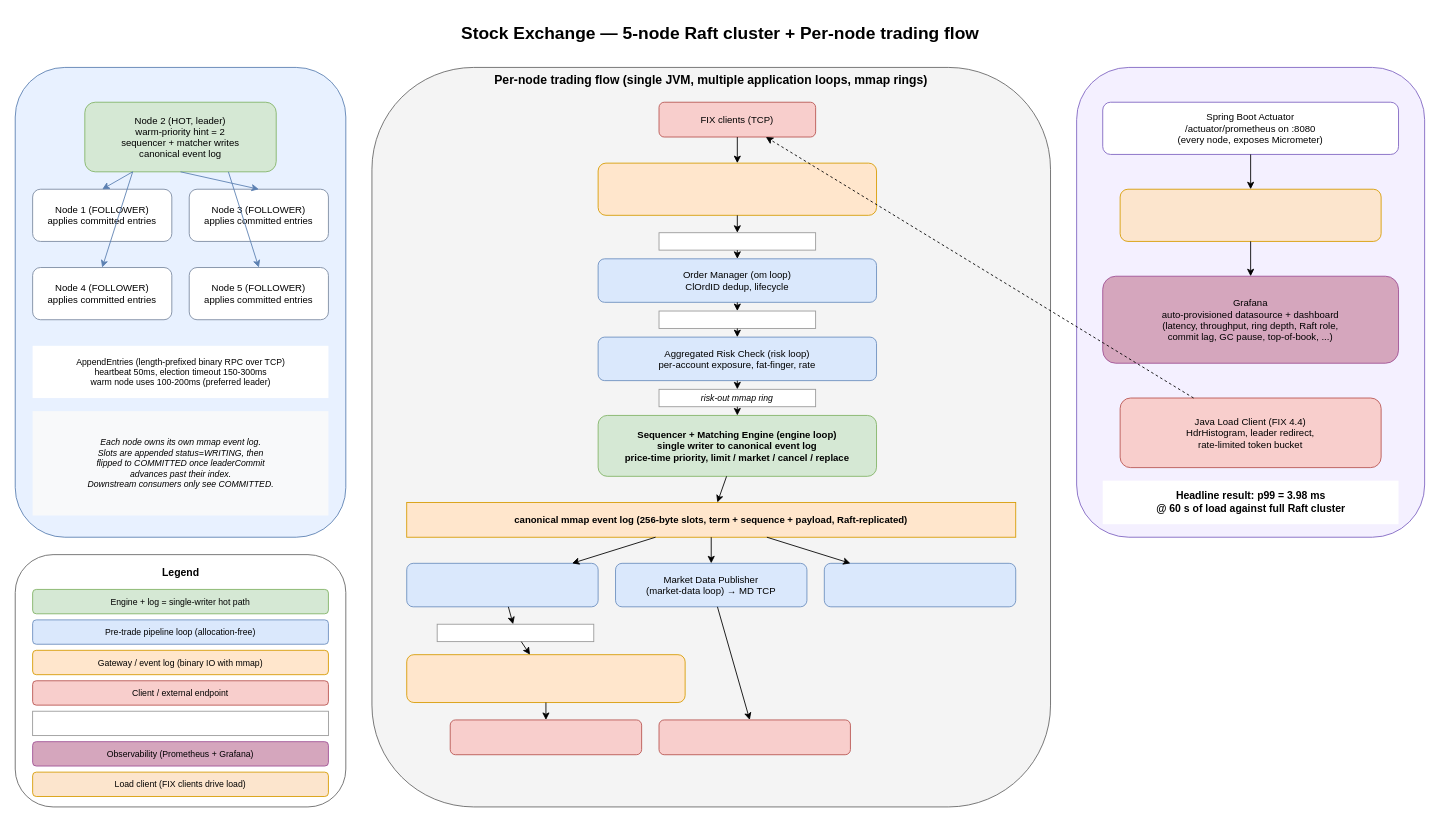
The diagram is 1440 pixels wide and 822 high, and some of its shapes have lost their labels. The box of each missing label's shape, as (x1, y1, x2, y2) in pixels:
5-node Raft cluster (HA): (14, 67, 346, 537)
Client Gateway (gateway-io loop) FIX 4.4 codec, session, rate limit, validation: (597, 162, 877, 215)
Client Gateway (gateway-out loop) encodes ExecutionReports → FIX → client: (406, 654, 685, 703)
FIX clients (TCP, ExecutionReport): (449, 719, 642, 755)
gateway-out mmap ring: (436, 623, 594, 642)
inbound mmap ring: (658, 232, 816, 250)
MD subscribers (TCP): (658, 719, 850, 755)
mmap ring buffer (SPSC, 256-byte slots): (32, 710, 328, 736)
Observability: (1076, 67, 1425, 537)
om-out mmap ring: (658, 310, 816, 328)
Position Keeper (position loop, off hot path): (823, 562, 1016, 607)
Prometheus scrapes 5 nodes every 5s: (1119, 188, 1381, 241)
Reporter (reporter loop) builds ExecutionReport from events: (406, 562, 598, 607)
